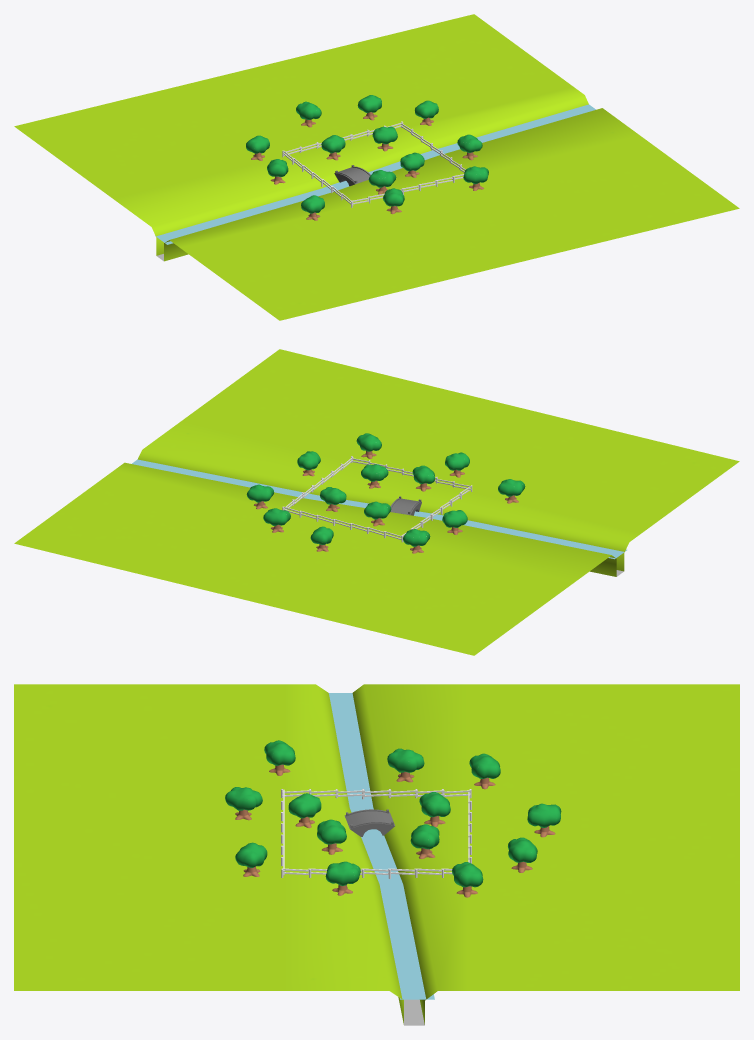
Rendered from forest.fbx.
The picture shows the model from 3 angles, top to bottom: view 1: azimuth 30°, elevation 25°; view 2: azimuth 150°, elevation 25°; view 3: azimuth 270°, elevation 25°; orthographic projection. The views are drawn at different scales.
Parts seen in each view (by area): view 1: polymsh21; view 2: polymsh21; view 3: polymsh21.
Part boxes in pixels (left/top/right/bottom): polymsh21: left=14, top=14, right=739, bottom=320; polymsh21: left=14, top=349, right=739, bottom=655; polymsh21: left=14, top=684, right=739, bottom=1025.
Bounding box in the file's own units: 40.86 × 3.95 × 40.86.
